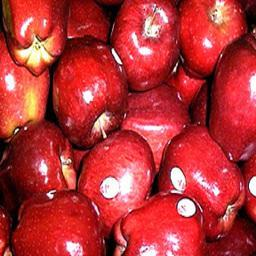apple: (158, 125, 244, 237), (49, 40, 129, 148), (77, 130, 157, 224), (208, 37, 256, 166), (112, 1, 182, 88), (9, 193, 103, 255), (113, 192, 204, 256), (121, 85, 190, 165), (1, 1, 69, 77), (180, 1, 250, 71), (6, 121, 77, 189), (1, 48, 52, 139)
